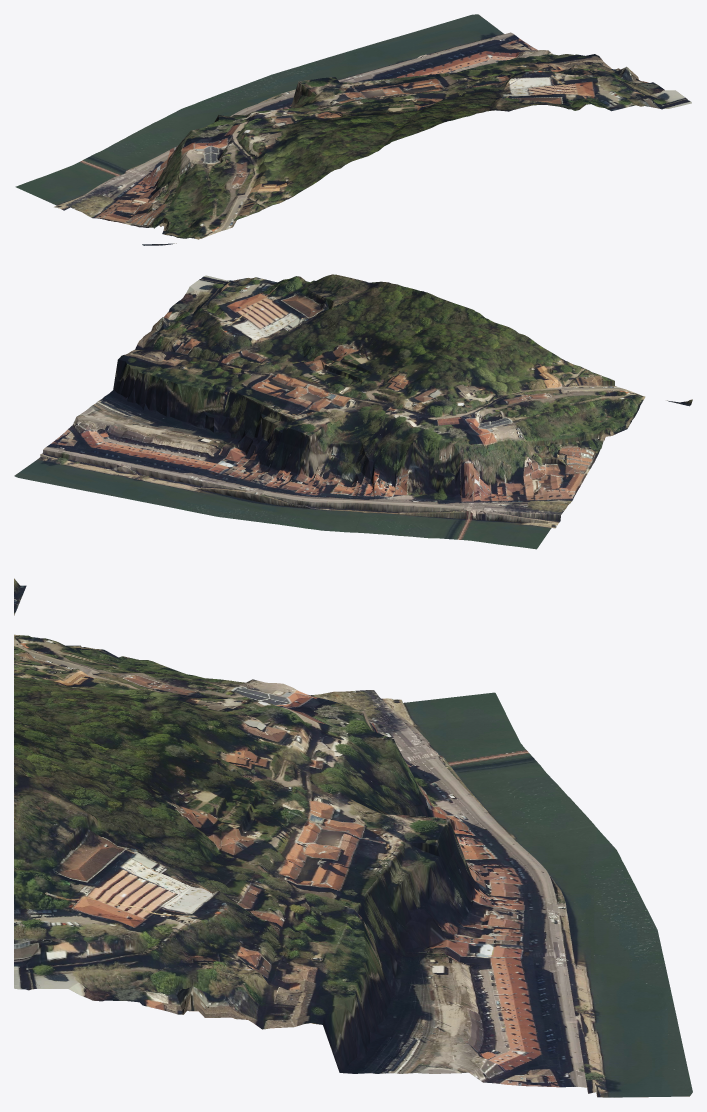
Rendered from gml_28445915-ef07-4e22-987c-610c478cc370.gltf.
3 views of the same model, one above another, from view 1: azimuth 30°, elevation 25°; view 2: azimuth 150°, elevation 25°; view 3: azimuth 270°, elevation 25° (orthographic). The views are drawn at different scales.
Parts seen in each view (by area): view 1: Z_UP; view 2: Z_UP; view 3: Z_UP.
Part boxes in pixels (x1,y1,x2,y2): Z_UP: [15, 14, 691, 245]; Z_UP: [14, 274, 692, 549]; Z_UP: [14, 578, 692, 1097].
Size of the model in its own units: 500 by 97.02 by 341.
1 material, 1 textured.
